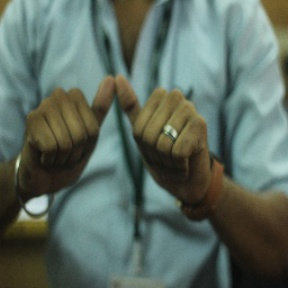A: (31, 74, 208, 189)
